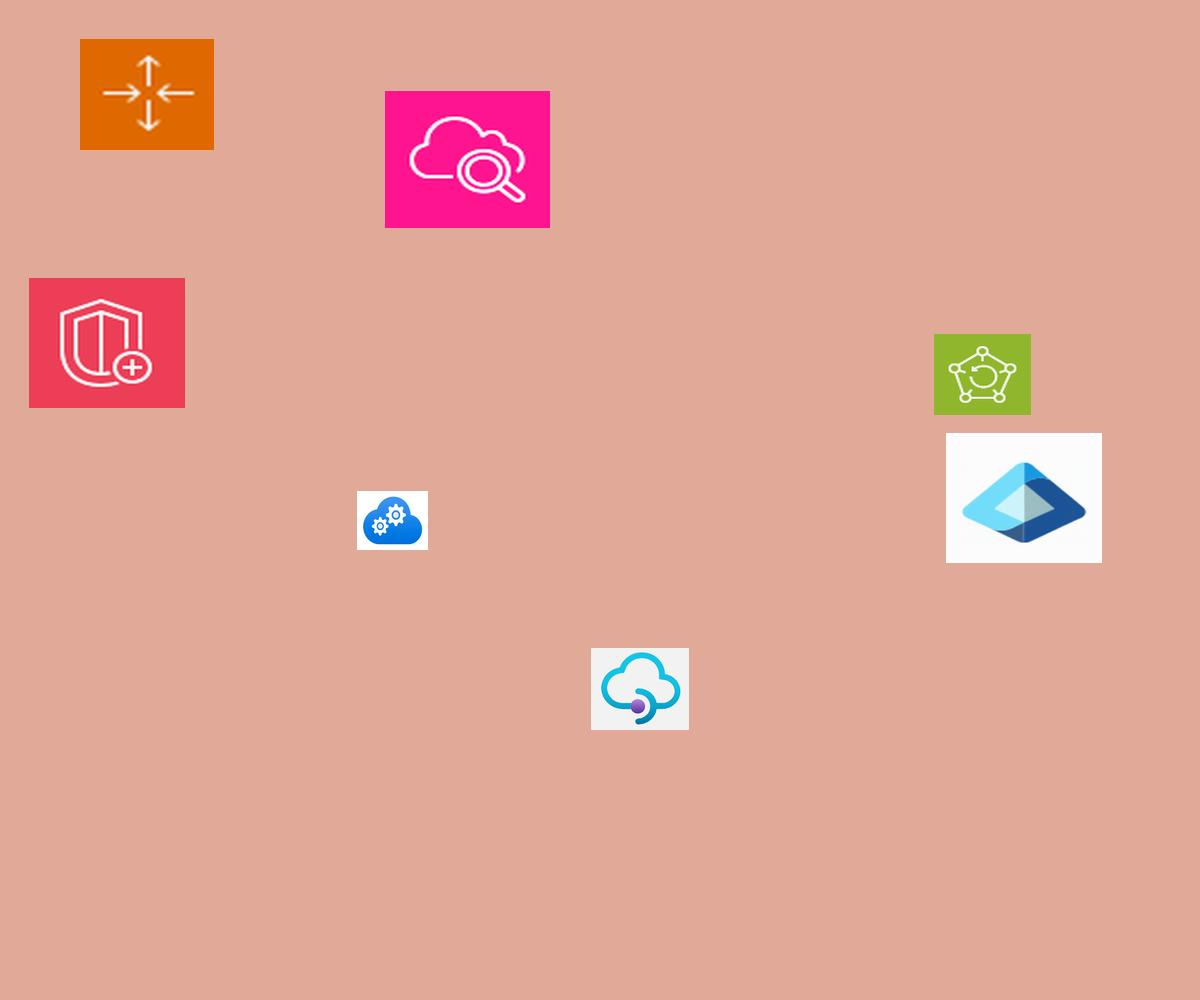AWS-Backup: (934, 334, 1031, 415)
AWS-CloudWatch: (385, 91, 550, 228)
AWS-Scaling-group: (80, 39, 214, 150)
AWS-Shield: (29, 278, 185, 408)
Azure_api_gateway: (591, 648, 689, 730)
Azure_cloud_services: (357, 491, 428, 550)
Azure_microsoft_entra: (946, 433, 1102, 563)
